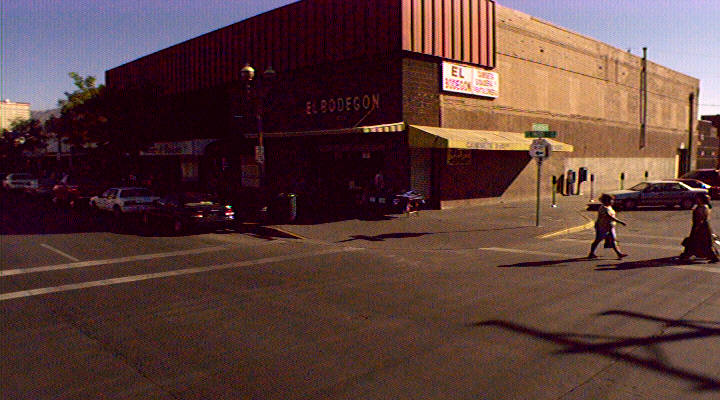Ramp: (264, 214, 567, 252)
